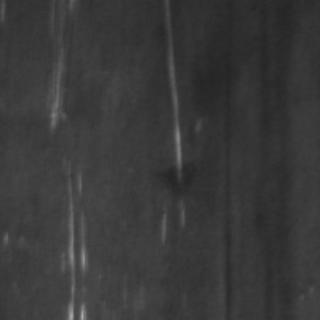inclusion: (247, 2, 296, 314), (218, 110, 236, 318)
scratches: (155, 2, 185, 234), (61, 160, 91, 318), (44, 32, 70, 136)
